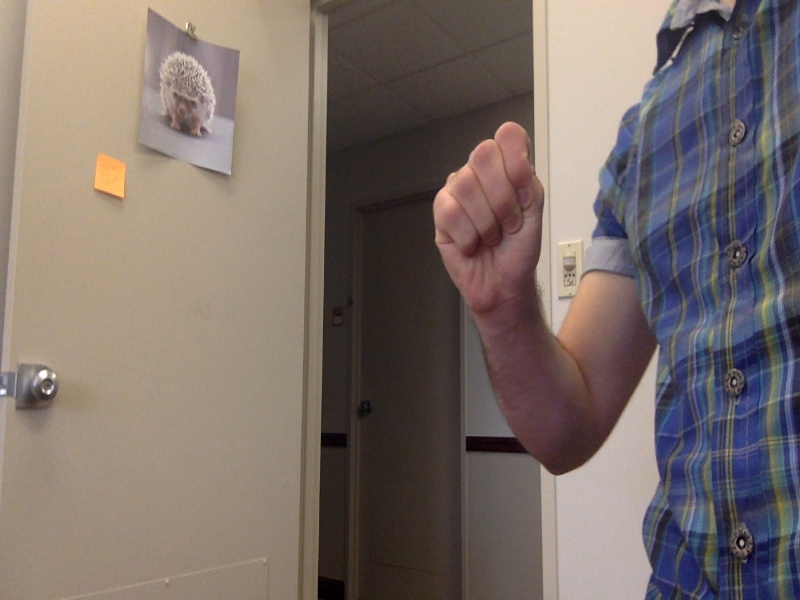0-hand: (431, 122, 548, 318)
